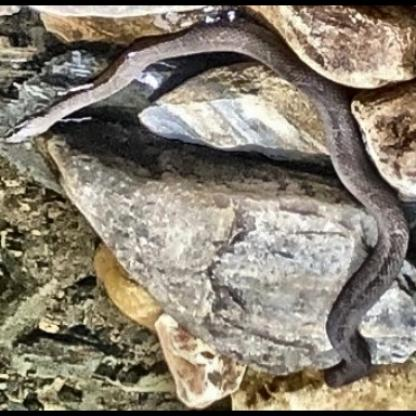Snake: (2, 16, 368, 146), (314, 150, 410, 386)
